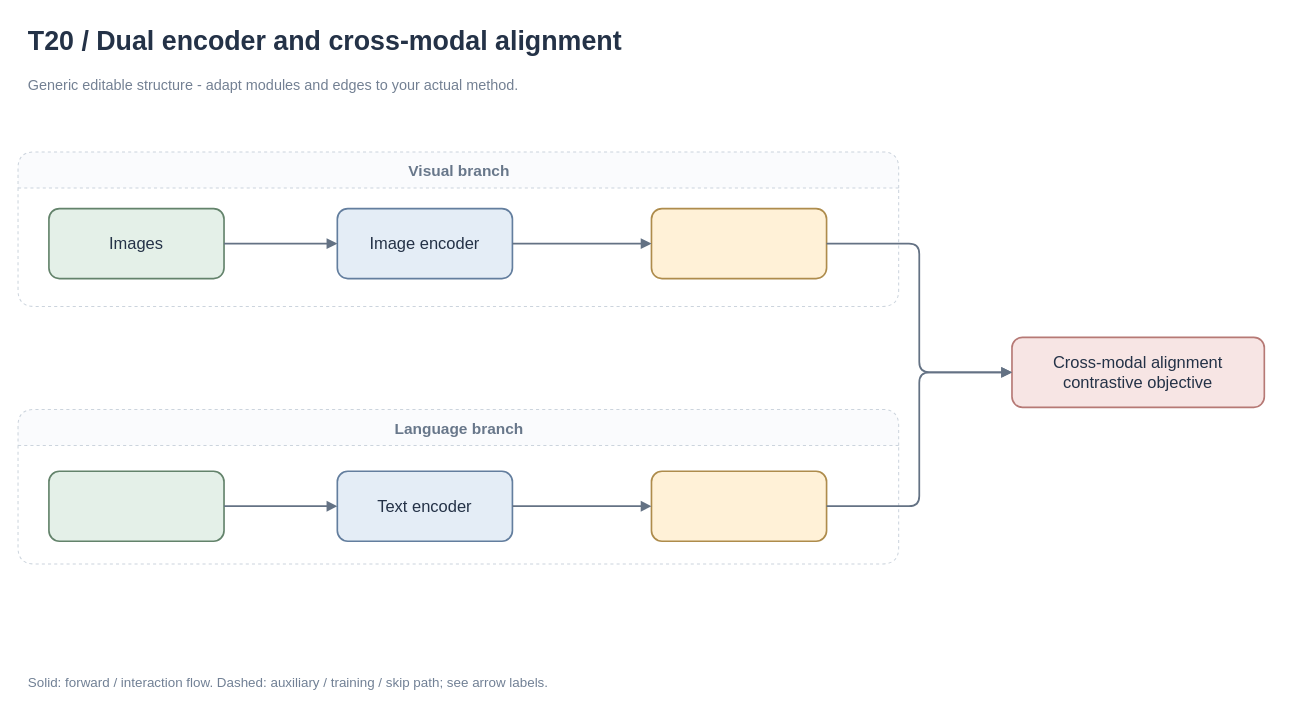
The diagram is 1311 pixels wide and 716 high, and some of its shapes have lost their labels. Each missing label, with the centre of its shape:
Image embeddings: the point at 738,243
Text embeddings: the point at 738,506
Texts: the point at 136,506
